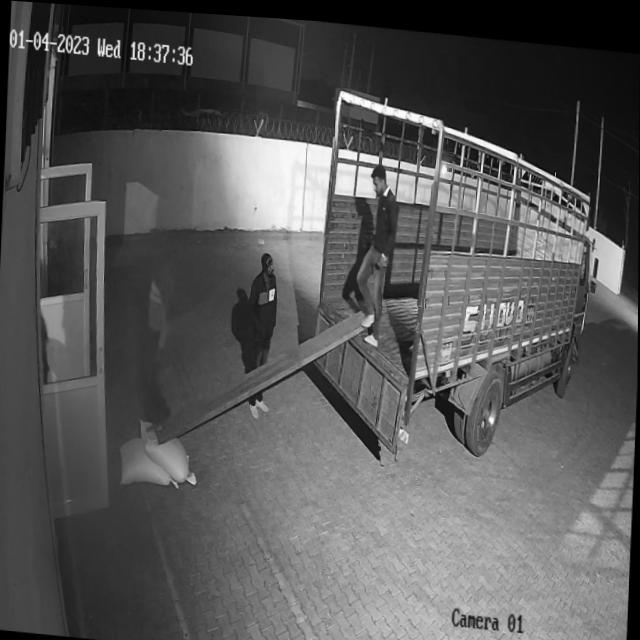sack: (137, 415, 198, 482), (119, 433, 179, 487)
